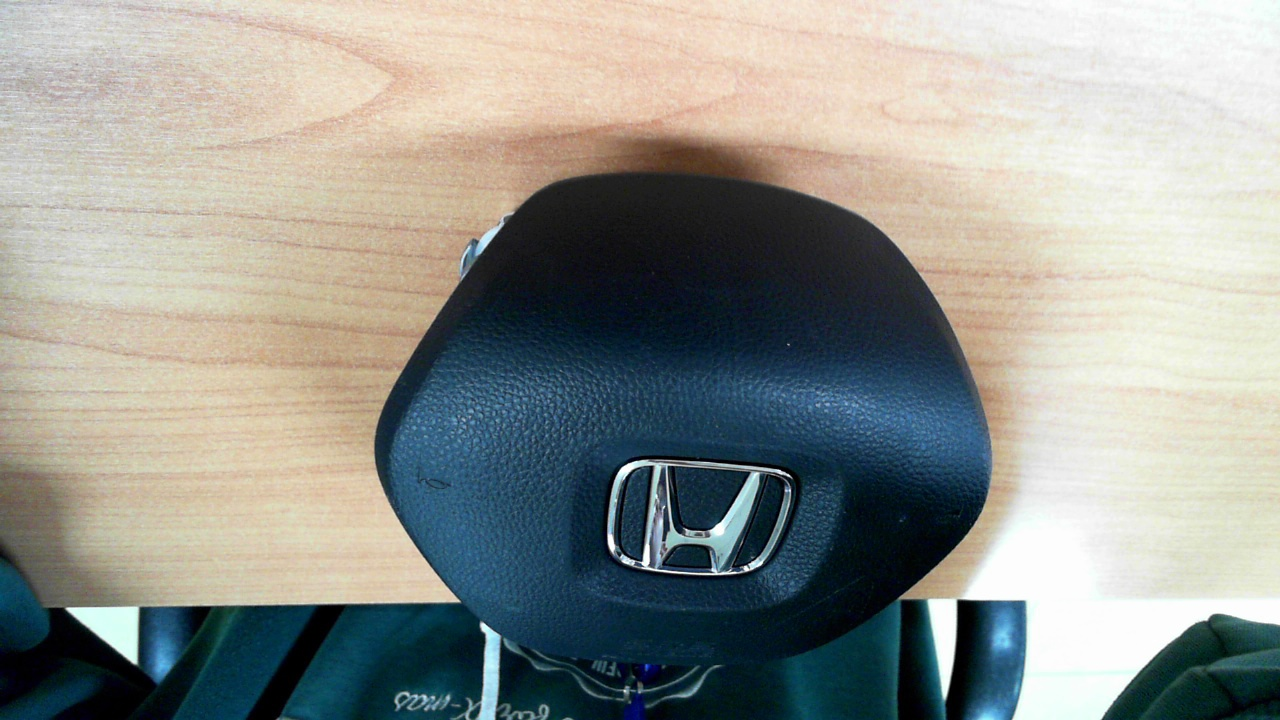Airbag: (373, 171, 993, 664)
Honda: (606, 458, 794, 577)
